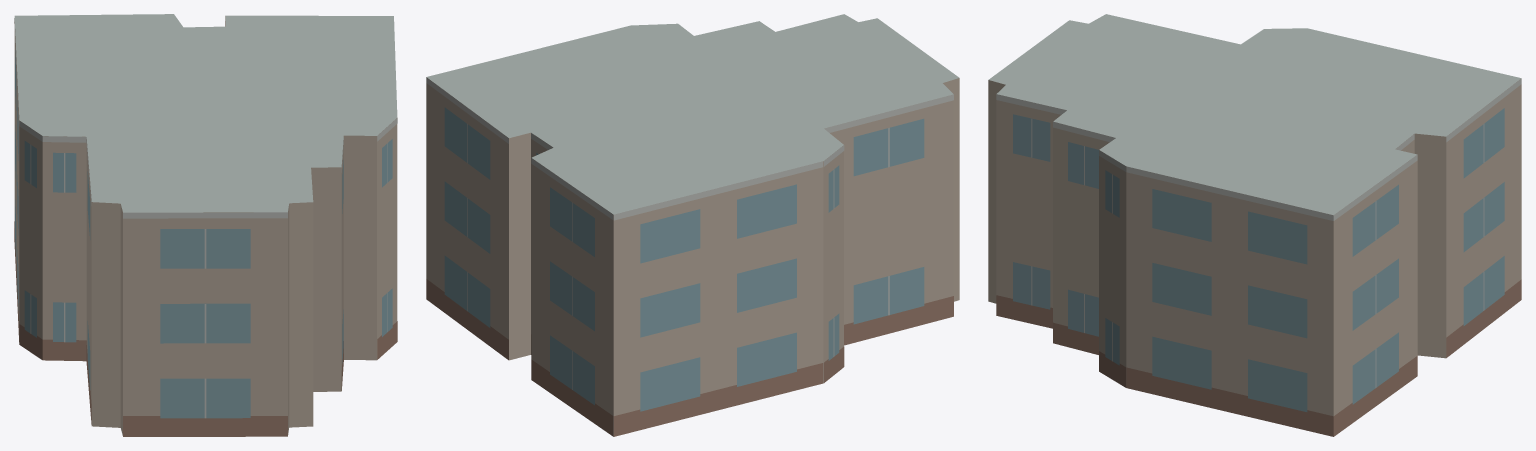
File: survey-upis-32966735.glb
3 renders of one model, left to right at view 1: azimuth 30°, elevation 25°; view 2: azimuth 150°, elevation 25°; view 3: azimuth 270°, elevation 25°, orthographic.
Visible parts, largest first — view 1: survey-upis-32966735.tmp; view 2: survey-upis-32966735.tmp; view 3: survey-upis-32966735.tmp.
Boxes of the visible parts, x1,y1,x2,y2 form: survey-upis-32966735.tmp: [14, 14, 397, 436]; survey-upis-32966735.tmp: [426, 14, 959, 436]; survey-upis-32966735.tmp: [988, 14, 1521, 436].
Size of the model in its own units: 17.82 by 9.15 by 19.96.
